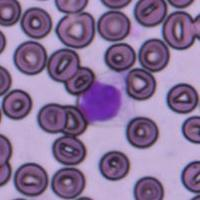M: (77, 75, 133, 125)
